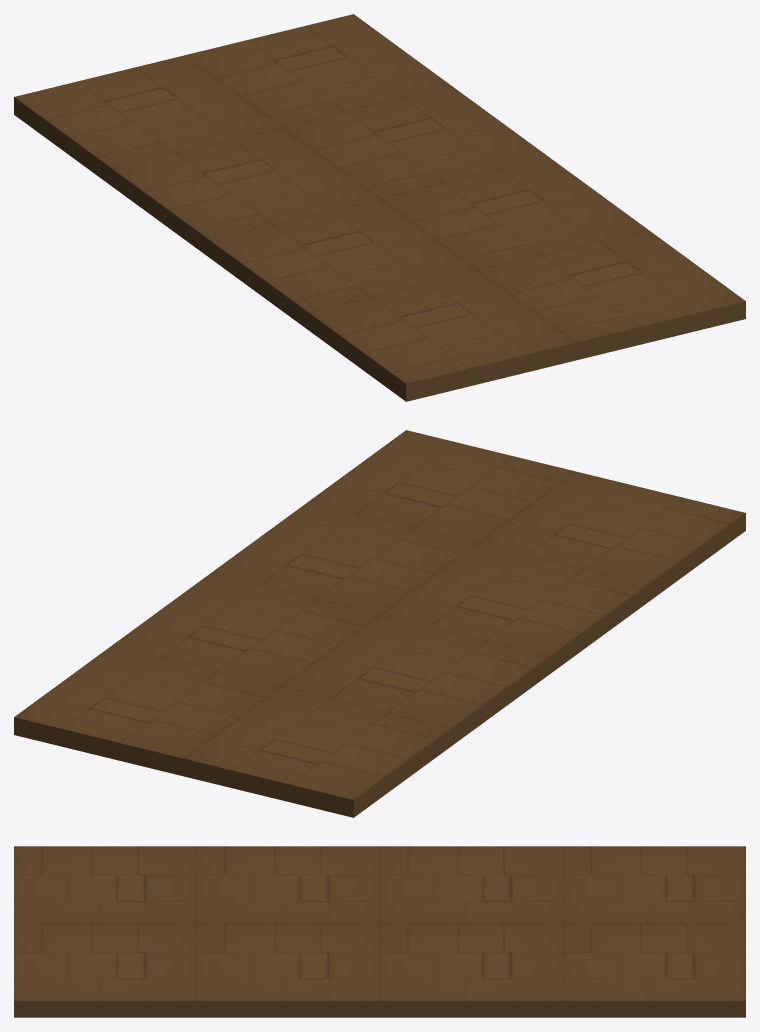
Rendered from Strada_2x4.glb.
3 renders of one model, top to bottom at view 1: azimuth 30°, elevation 25°; view 2: azimuth 150°, elevation 25°; view 3: azimuth 270°, elevation 25°, orthographic. The views are drawn at different scales.
Parts seen in each view (by area): view 1: 2x4; view 2: 2x4; view 3: 2x4.
Part boxes in pixels (bbox=[...]): 2x4: bbox=[14, 14, 745, 401]; 2x4: bbox=[14, 430, 745, 817]; 2x4: bbox=[14, 846, 745, 1017].
Bounding box in the file's own units: 4 × 0.2 × 8.
Materials: 1 (1 with a texture image).
